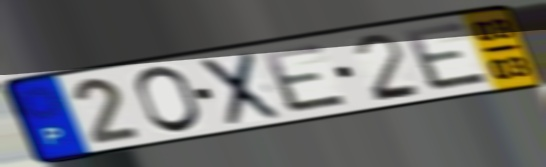2: (73, 74, 147, 148), (352, 31, 423, 104)
E: (257, 40, 354, 116), (399, 18, 495, 94)
O: (132, 64, 205, 136)
X: (198, 48, 284, 129)
